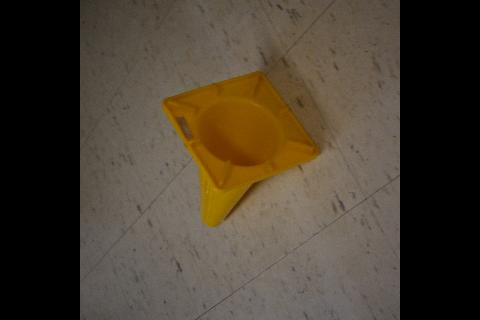cone: (161, 72, 321, 226)
